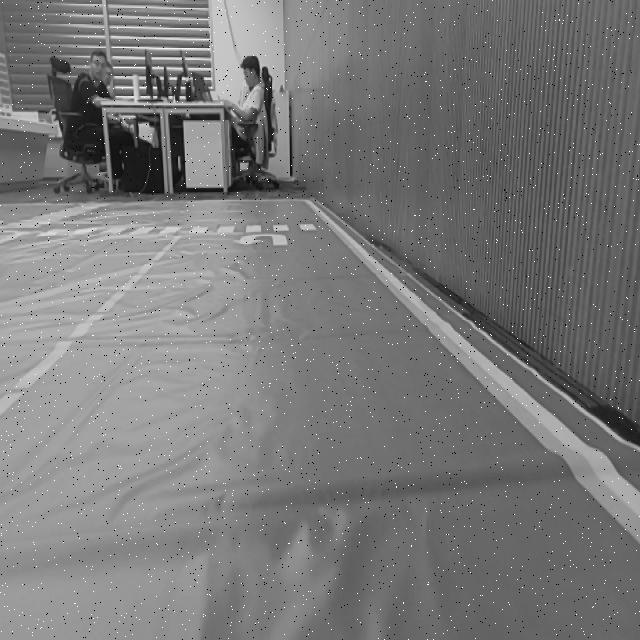left_lane: (0, 236, 182, 420)
right_lane: (308, 207, 640, 545)
